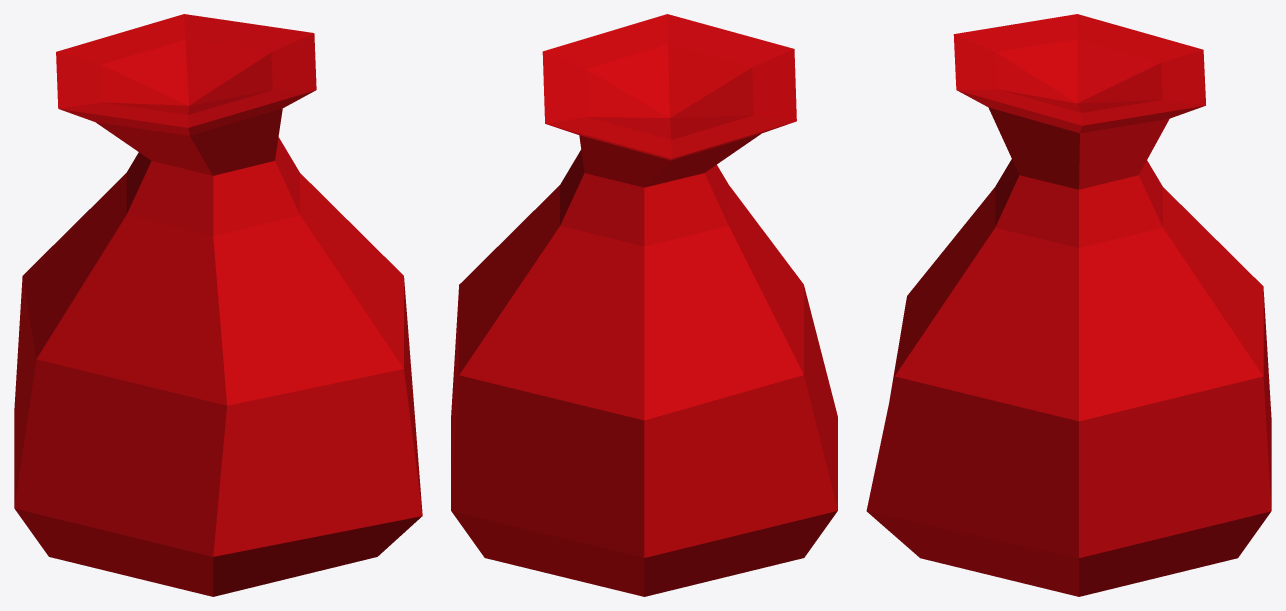
The model's file is bag_mat.fbx.
3 views of the same model, side by side, from view 1: azimuth 30°, elevation 25°; view 2: azimuth 150°, elevation 25°; view 3: azimuth 270°, elevation 25° (orthographic). The views are drawn at different scales.
Visible parts, largest first — view 1: bag_mat; view 2: bag_mat; view 3: bag_mat.
Boxes of the visible parts, bbox=[...] form: bag_mat: bbox=[14, 14, 422, 596]; bag_mat: bbox=[451, 14, 837, 596]; bag_mat: bbox=[866, 14, 1271, 596].
Size of the model in its own units: 29.24 by 32.53 by 26.65.
